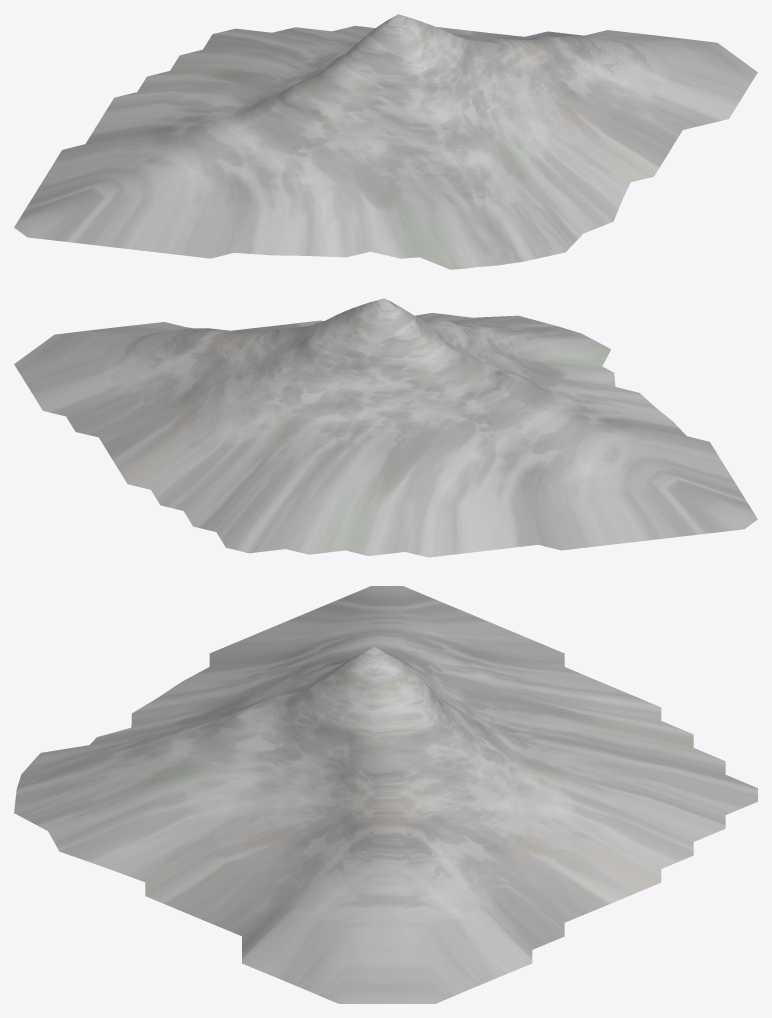
Rendered from P_Mountain01.obj.
3 views of the same model, one above another, from view 1: azimuth 30°, elevation 25°; view 2: azimuth 150°, elevation 25°; view 3: azimuth 270°, elevation 25° (orthographic). The views are drawn at different scales.
Size of the model in its own units: 3410 by 599 by 2565.
